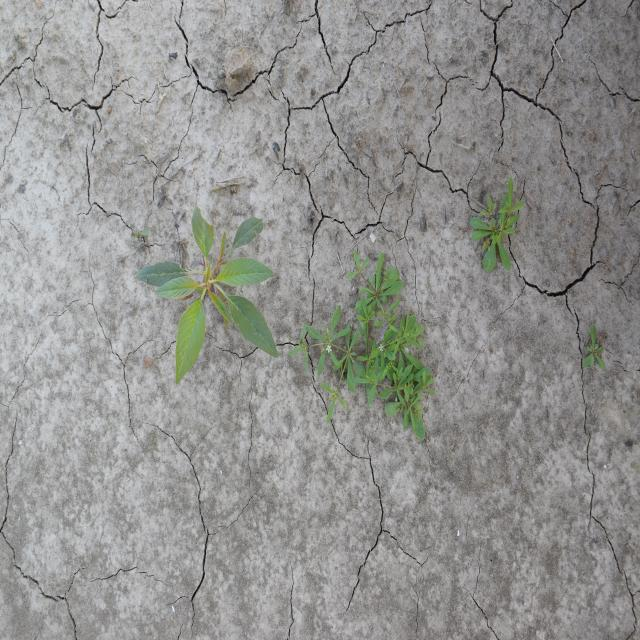Carpetweed: (286, 248, 438, 442), (469, 178, 525, 276), (580, 322, 606, 371)
Waterhemp: (133, 204, 280, 386)
